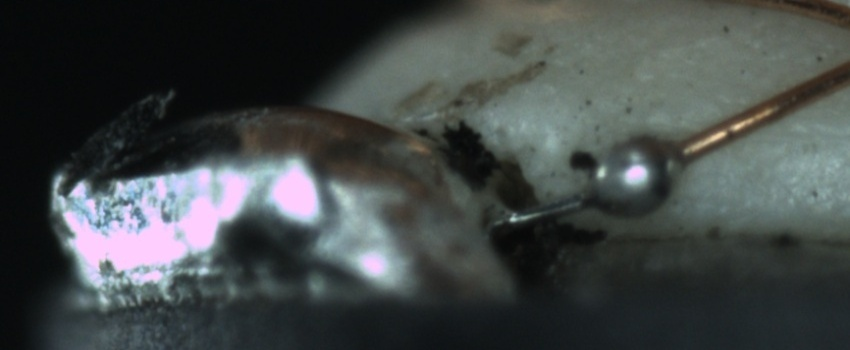DL: (720, 107, 849, 162)
TB: (580, 129, 692, 219)
TS: (503, 137, 679, 232)
TTCW: (497, 116, 738, 231)
